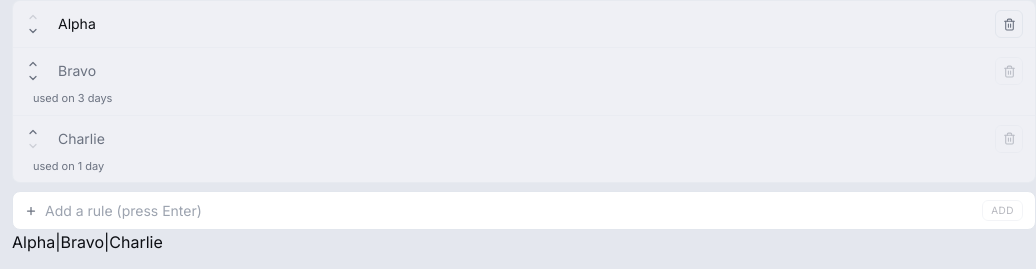
(1) arrows — adjacent swap, end-guards, precedent aria, frozen rows movable › (7) usage counts and frozen status are untouched by any reorder
This screenshot has width=1036, height=269.
Click the button named "Move Charlie up": (33,132) [25, 124, 41, 138]
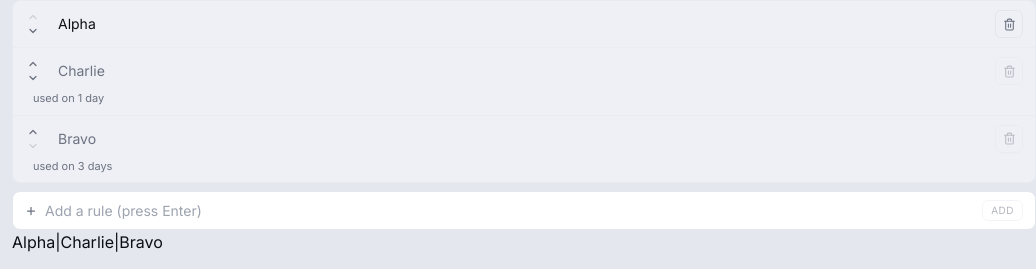
Click the button named "Move Charlie up": (33,64) [25, 57, 41, 71]
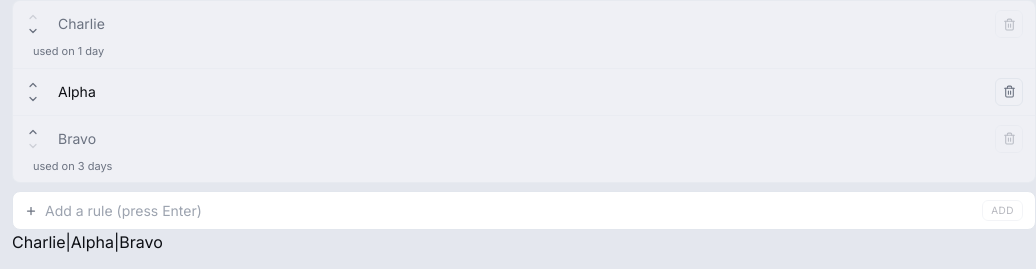
Expected: the text "used on 1 day" is shown, [33, 44, 104, 58]
Expected: the text with test id "order" reads "Charlie|Alpha|Bravo", [12, 232, 163, 252]
